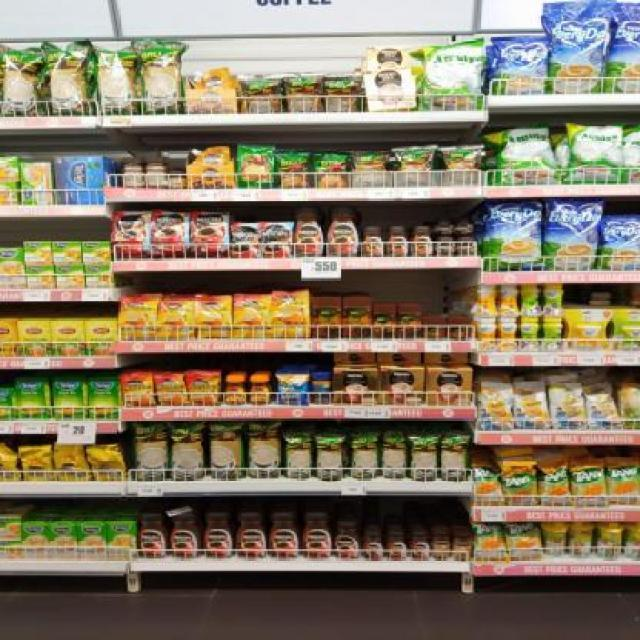Coffee: (113, 210, 150, 258), (190, 212, 228, 258), (272, 293, 310, 339), (234, 293, 272, 339), (153, 212, 189, 258), (196, 296, 233, 339), (326, 209, 358, 258), (294, 208, 324, 259), (157, 299, 195, 339), (120, 299, 156, 340), (301, 514, 332, 558), (138, 513, 167, 559), (202, 515, 232, 559), (269, 514, 298, 558), (237, 514, 265, 557), (171, 514, 198, 557), (187, 373, 220, 405), (231, 222, 260, 258), (155, 376, 187, 407), (263, 224, 292, 258), (123, 376, 154, 407), (335, 522, 358, 559), (361, 226, 384, 258), (388, 226, 410, 257), (412, 226, 434, 257), (387, 530, 408, 560), (363, 530, 383, 560), (410, 530, 430, 560), (249, 377, 270, 405), (224, 378, 245, 406), (459, 238, 478, 256), (436, 238, 455, 256), (455, 219, 473, 236), (435, 219, 453, 235)
